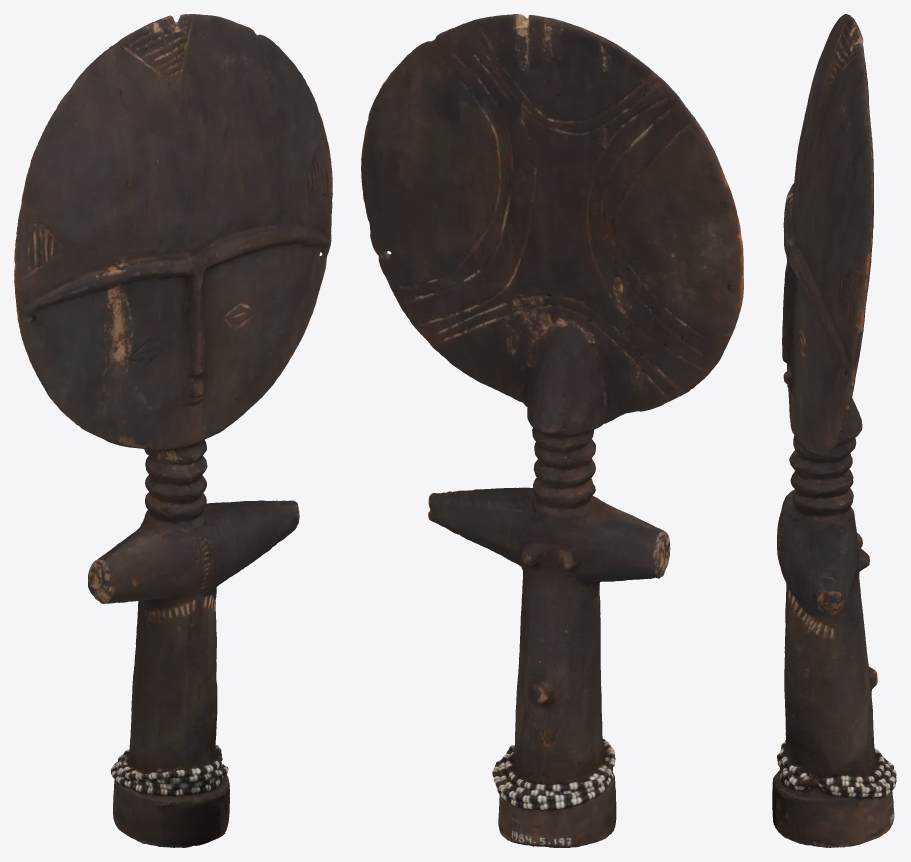
File: preview.glb
3 views of the same model, side by side, from view 1: azimuth 30°, elevation 25°; view 2: azimuth 150°, elevation 25°; view 3: azimuth 270°, elevation 25° (orthographic). The views are drawn at different scales.
Parts seen in each view (by area): view 1: Model_material0_0; view 2: Model_material0_0; view 3: Model_material0_0.
Part boxes in pixels (x1,y1,x2,y2): Model_material0_0: (14,14,332,847); Model_material0_0: (361,14,743,847); Model_material0_0: (772,14,896,847).
Bounding box in the file's own units: 0.8906 × 1.98 × 0.2799.
1 material, 1 textured.
